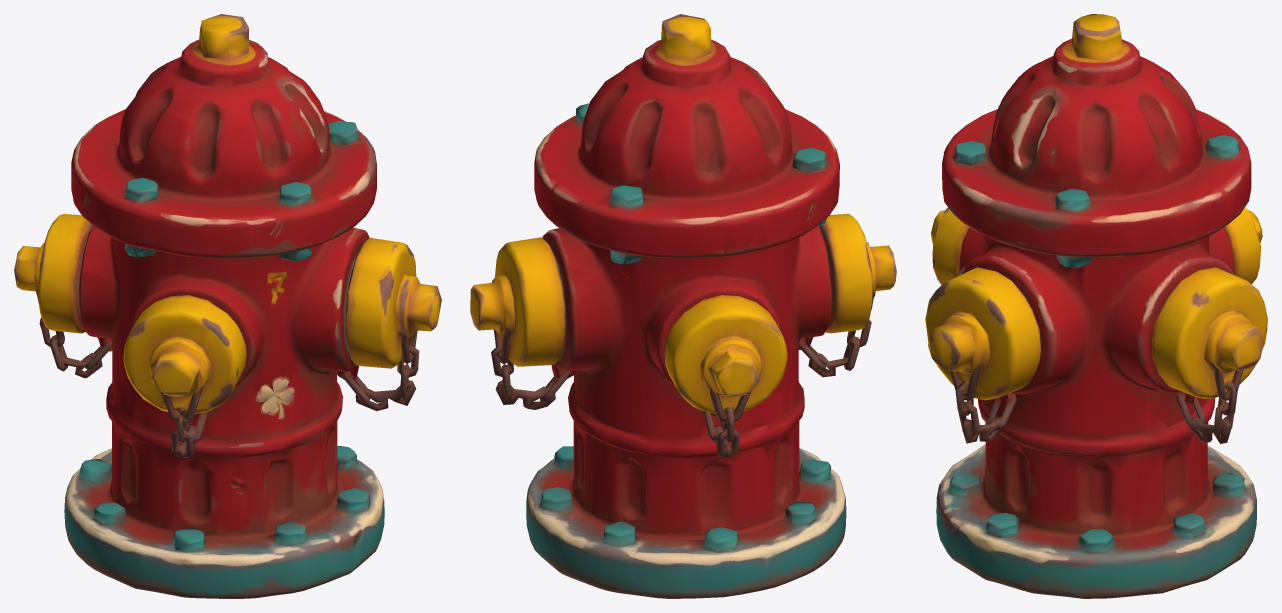
File: fire_hydrant.glb
3 renders of one model, left to right at view 1: azimuth 30°, elevation 25°; view 2: azimuth 150°, elevation 25°; view 3: azimuth 270°, elevation 25°, orthographic.
Parts seen in each view (by area): view 1: tripo_node_99997992-aae3-4aae-ad9e-7c2a0d8c4a1c; view 2: tripo_node_99997992-aae3-4aae-ad9e-7c2a0d8c4a1c; view 3: tripo_node_99997992-aae3-4aae-ad9e-7c2a0d8c4a1c.
Part boxes in pixels (x1=…): tripo_node_99997992-aae3-4aae-ad9e-7c2a0d8c4a1c: x1=14, y1=14, x2=441, y2=598; tripo_node_99997992-aae3-4aae-ad9e-7c2a0d8c4a1c: x1=470, y1=14, x2=896, y2=598; tripo_node_99997992-aae3-4aae-ad9e-7c2a0d8c4a1c: x1=925, y1=14, x2=1267, y2=598.
Bounding box in the file's own units: 0.5847 × 0.9779 × 0.5934.
1 material, 1 textured.
